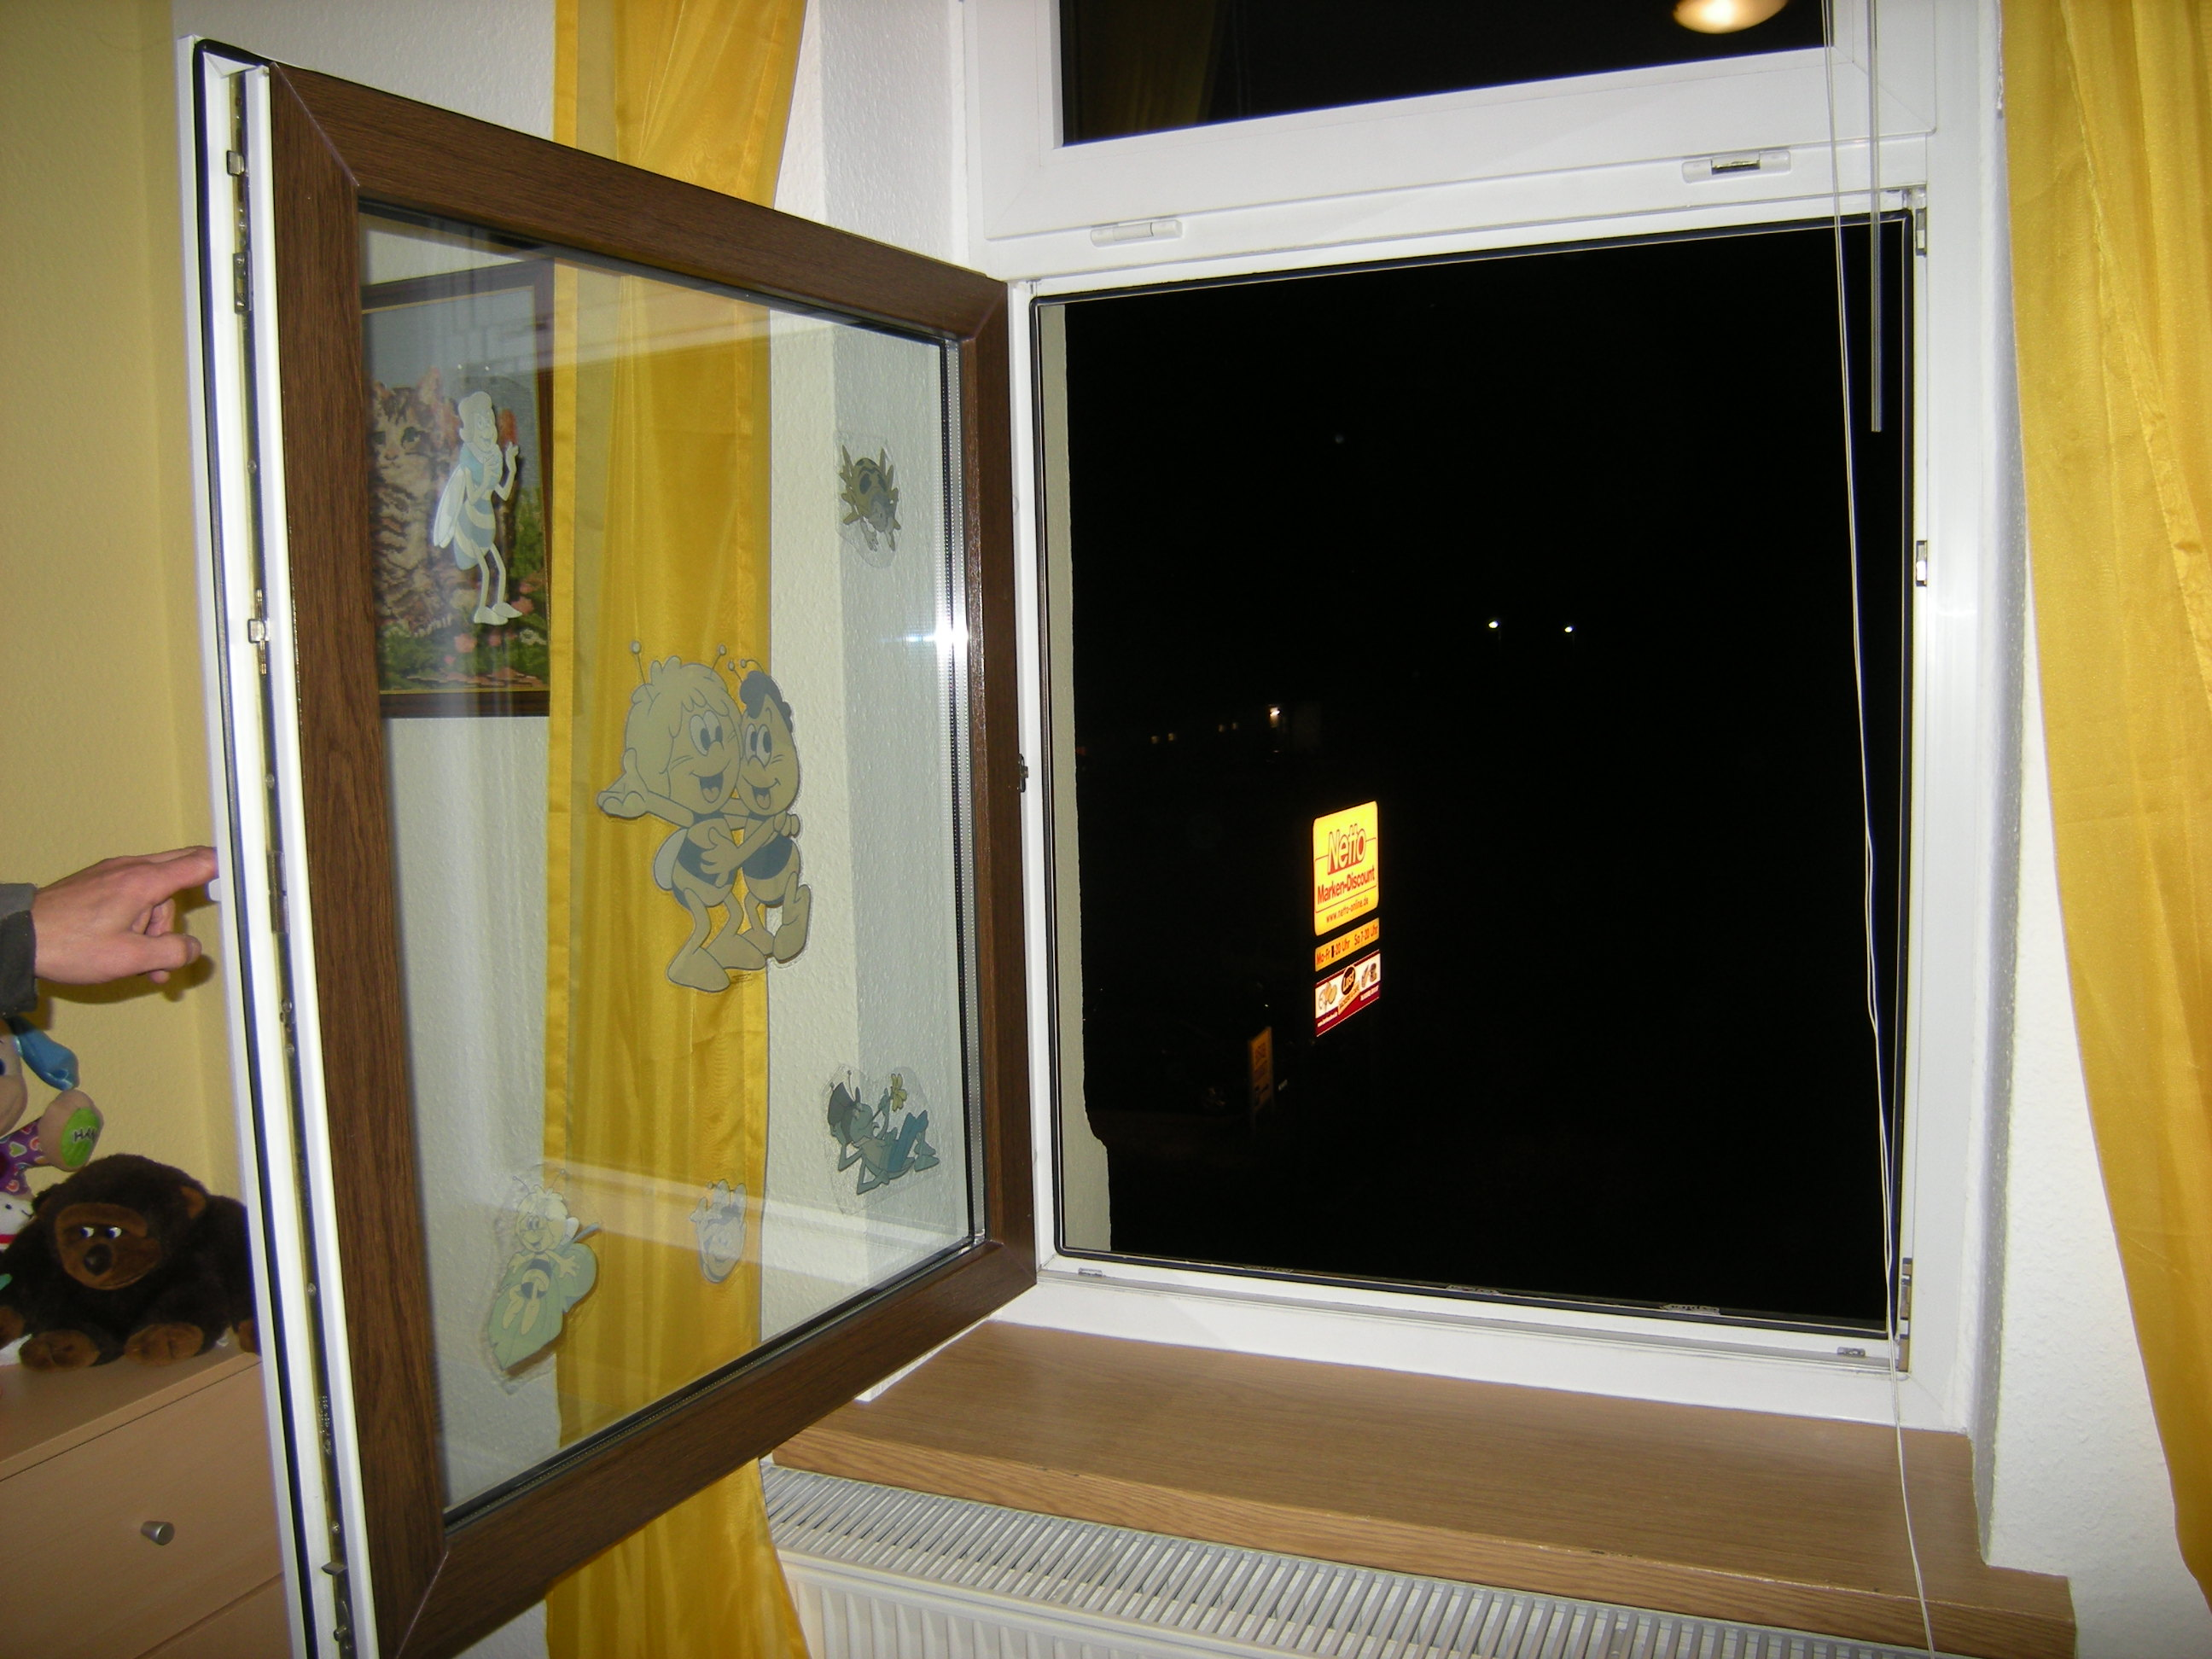windows: (169, 31, 1066, 1554)
